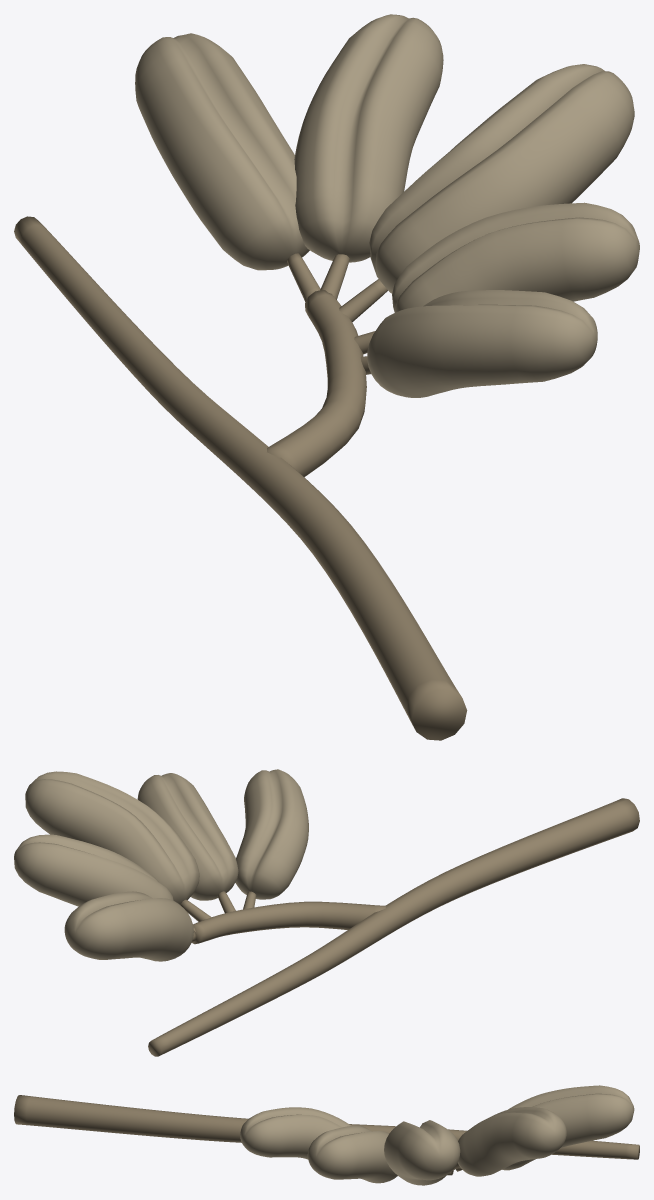
The model's file is joffrea.glb.
3 renders of one model, top to bottom at view 1: azimuth 30°, elevation 25°; view 2: azimuth 150°, elevation 25°; view 3: azimuth 270°, elevation 25°, orthographic. The views are drawn at different scales.
Visible parts, largest first — view 1: one-mature-twisted-follicle-bearing-state-no-detached-seeds-, preserved-longshoot-shortshoot-junction-with-attached-fruit-; view 2: one-mature-twisted-follicle-bearing-state-no-detached-seeds-, preserved-longshoot-shortshoot-junction-with-attached-fruit-; view 3: one-mature-twisted-follicle-bearing-state-no-detached-seeds-, preserved-longshoot-shortshoot-junction-with-attached-fruit-.
Part boxes in pixels (left/top/right/bottom): one-mature-twisted-follicle-bearing-state-no-detached-seeds-: left=135, top=14, right=639, bottom=397; preserved-longshoot-shortshoot-junction-with-attached-fruit-: left=14, top=216, right=467, bottom=740; one-mature-twisted-follicle-bearing-state-no-detached-seeds-: left=14, top=769, right=308, bottom=961; preserved-longshoot-shortshoot-junction-with-attached-fruit-: left=148, top=798, right=639, bottom=1056; one-mature-twisted-follicle-bearing-state-no-detached-seeds-: left=240, top=1085, right=634, bottom=1185; preserved-longshoot-shortshoot-junction-with-attached-fruit-: left=14, top=1095, right=639, bottom=1175.
Bounding box in the file's own units: 0.1055 × 0.041 × 0.18.
